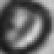correct: (0, 0, 52, 52)
